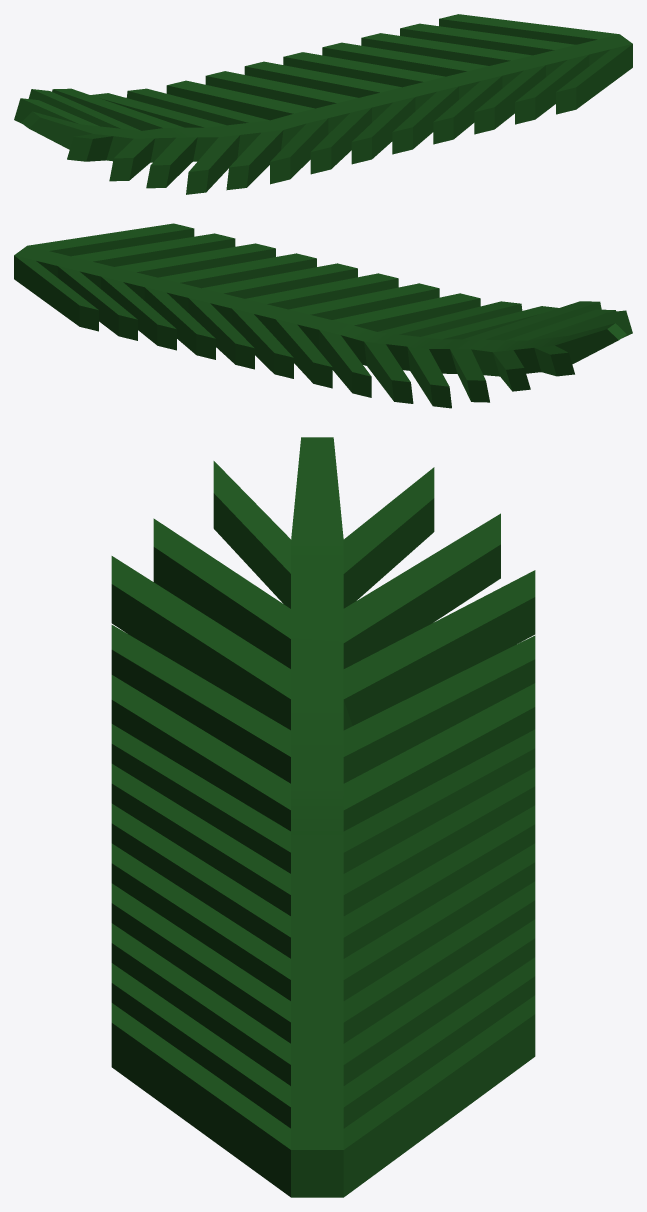
The model's file is PalmLeaf.fbx.
3 renders of one model, top to bottom at view 1: azimuth 30°, elevation 25°; view 2: azimuth 150°, elevation 25°; view 3: azimuth 270°, elevation 25°, orthographic. The views are drawn at different scales.
Visible parts, largest first — view 1: pCube1; view 2: pCube1; view 3: pCube1.
Part boxes in pixels (x1,y1,x2,y2): pCube1: [14, 14, 632, 194]; pCube1: [14, 223, 632, 408]; pCube1: [111, 437, 535, 1197].
Bounding box in the file's own units: 20.52 × 3.03 × 6.26.
